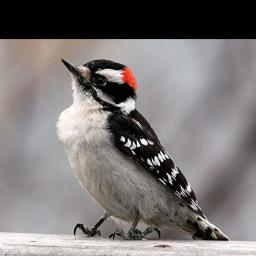Woodpecker: (55, 59, 228, 243)
